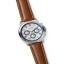watch: (18, 21, 47, 44)
